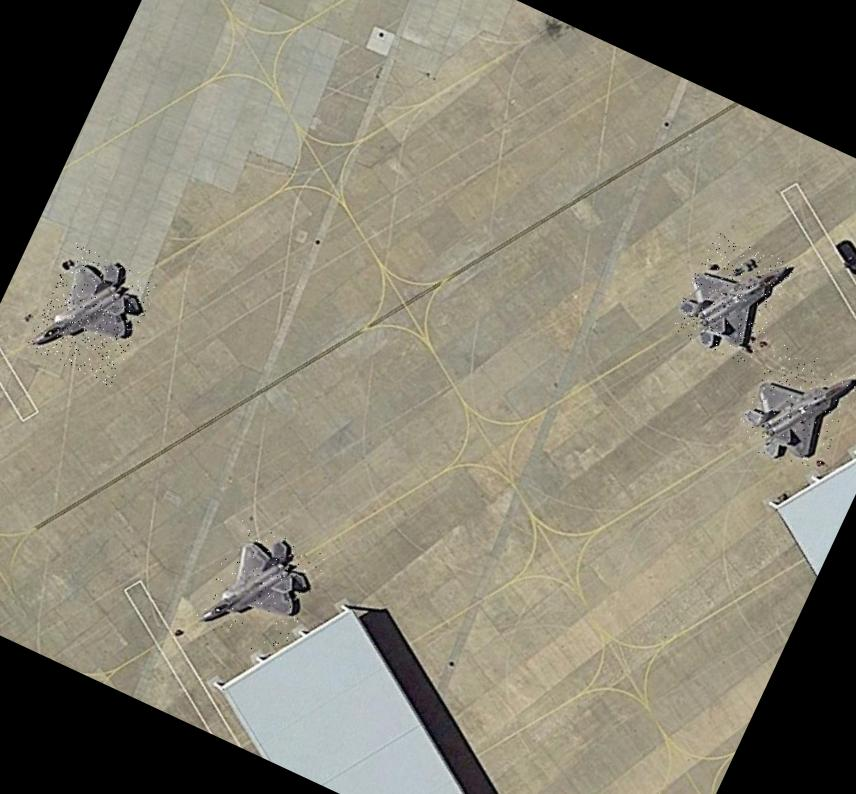A15: (192, 516, 328, 663), (26, 242, 160, 387), (730, 339, 856, 479), (668, 228, 795, 366)
